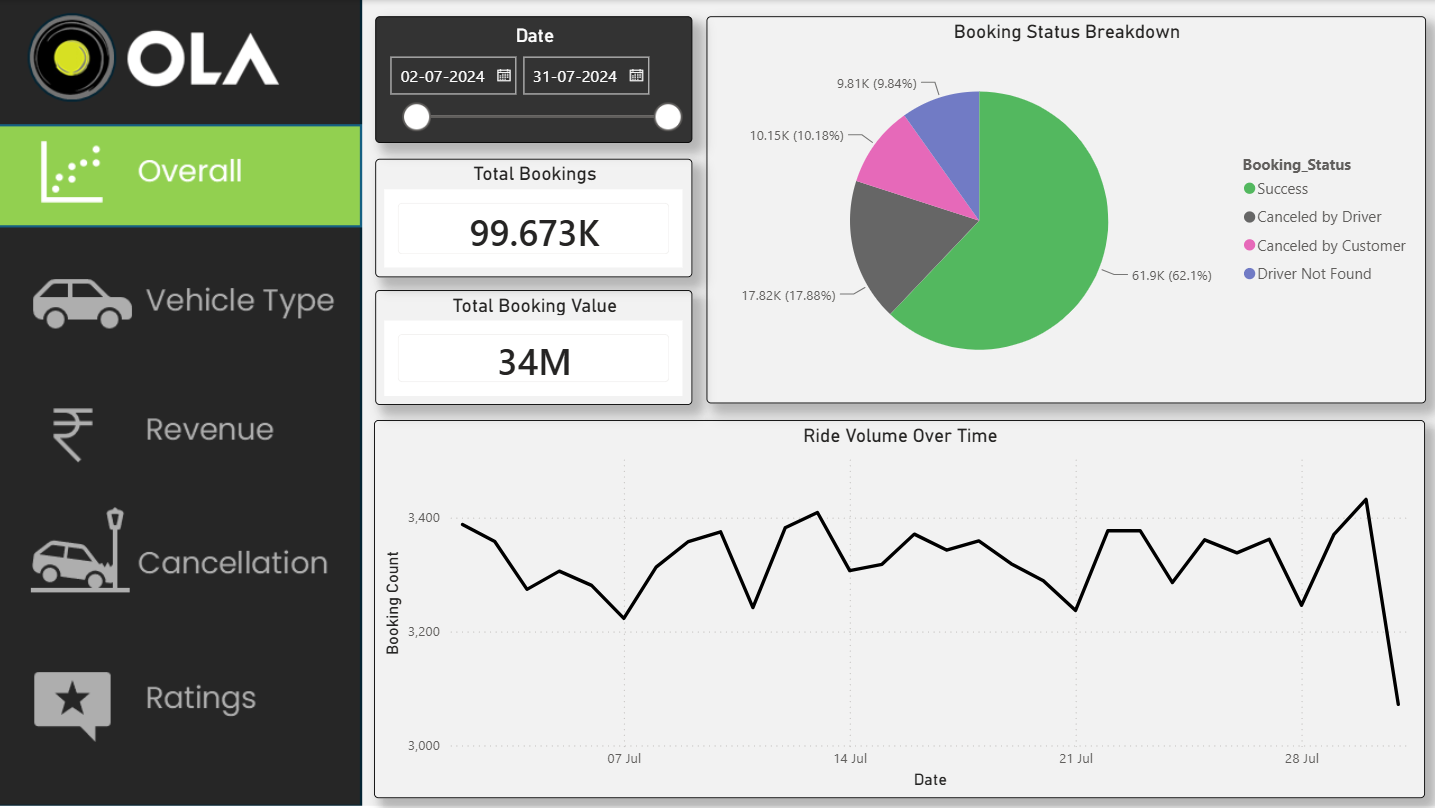

What the dashboard file says about the page in this screenshot:
{"tool":"powerbi","page":{"name":"Overall","canvas":[1280,720],"ordinal":0},"visuals":[{"type":"actionButton","box":[0,222,323.3,91.7],"z":0},{"type":"actionButton","box":[0,337.8,323.3,91.7],"z":1},{"type":"actionButton","box":[0,444,323.3,98.9],"z":2},{"type":"actionButton","box":[0,579.1,323.3,98.9],"z":3},{"type":"lineChart","title":"Ride Volume Over Time","fields":{"Y":["CountNonNull(July.Booking_ID)"],"Category":["July.Date"]},"box":[334.2,374,936.2,336.6],"z":4},{"type":"pieChart","title":"Booking Status Breakdown","fields":{"Y":["CountNonNull(July.Booking_ID)"],"Category":["July.Booking_Status"]},"box":[630.5,14.4,640.6,344.8],"z":5},{"type":"slicer","title":"Date","fields":{"Values":["July.Date"]},"box":[334.7,14.4,282.8,112.5],"z":6},{"type":"cardVisual","title":"Total Bookings","fields":{"Data":["Count(July.Booking_ID)"]},"box":[334.7,141.4,282.8,105.3],"z":7},{"type":"cardVisual","title":"Total Booking Value","fields":{"Data":["Sum(July.Booking_Value)"]},"box":[334.7,258.3,282.8,102.4],"z":8}]}

Visuals, with their boxes in screenshot pixels (x1, y1, x2, y2), scaled from the page's 1280x720 canvas onto the 1435x808 screenshot:
actionButton: {"left": 0, "top": 249, "right": 362, "bottom": 352}
actionButton: {"left": 0, "top": 379, "right": 362, "bottom": 482}
actionButton: {"left": 0, "top": 498, "right": 362, "bottom": 609}
actionButton: {"left": 0, "top": 650, "right": 362, "bottom": 761}
"Ride Volume Over Time" lineChart: {"left": 375, "top": 420, "right": 1424, "bottom": 797}
"Booking Status Breakdown" pieChart: {"left": 707, "top": 16, "right": 1425, "bottom": 403}
"Date" slicer: {"left": 375, "top": 16, "right": 692, "bottom": 142}
"Total Bookings" cardVisual: {"left": 375, "top": 159, "right": 692, "bottom": 277}
"Total Booking Value" cardVisual: {"left": 375, "top": 290, "right": 692, "bottom": 405}
